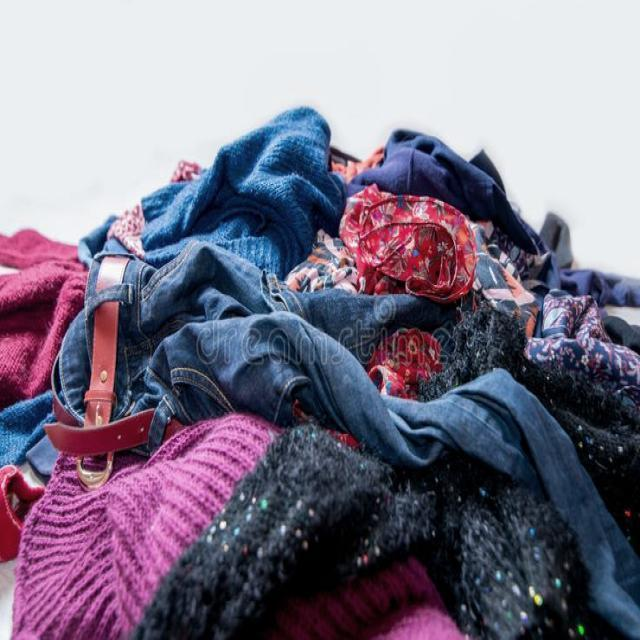clothes: (33, 237, 640, 640)
